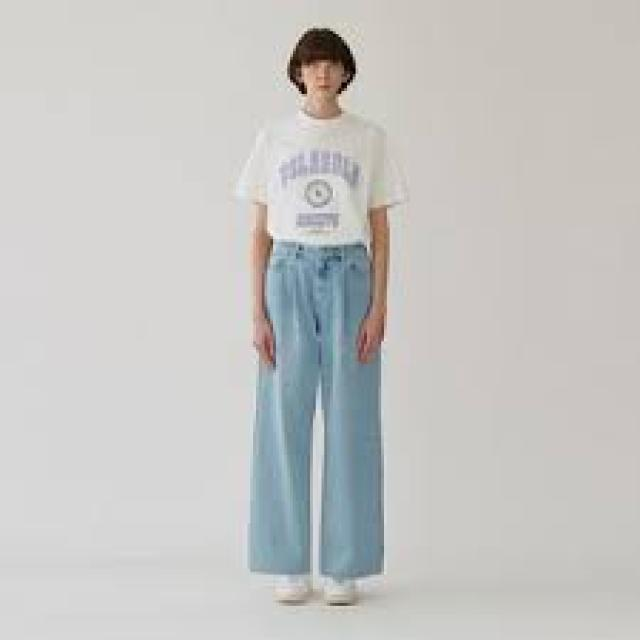long-pants: (249, 240, 383, 576)
